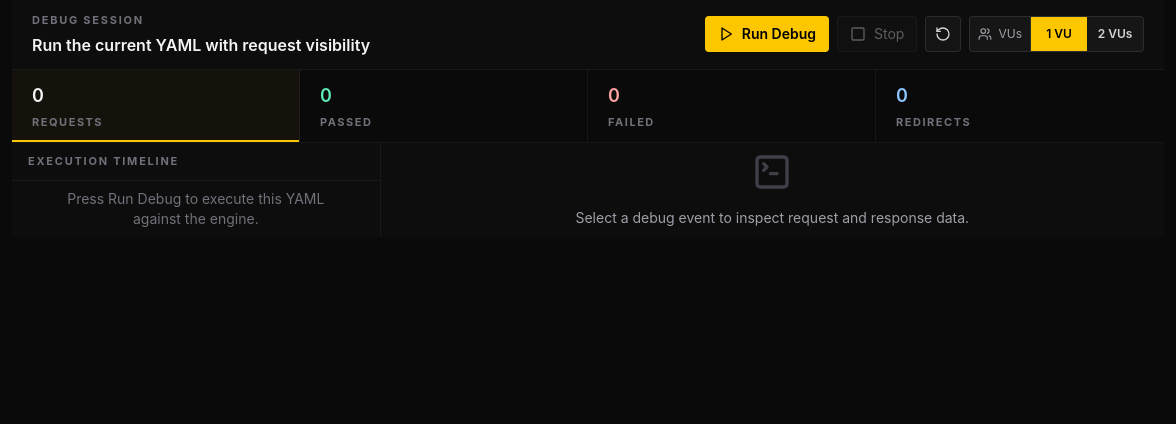
Test: YAMLDebugSession tree selection sync › labels the redirect chain in logs so a 200 landing does not read as a 302
Click the button "Run Debug" at (767, 34), box left=705, top=16, right=829, bottom=52
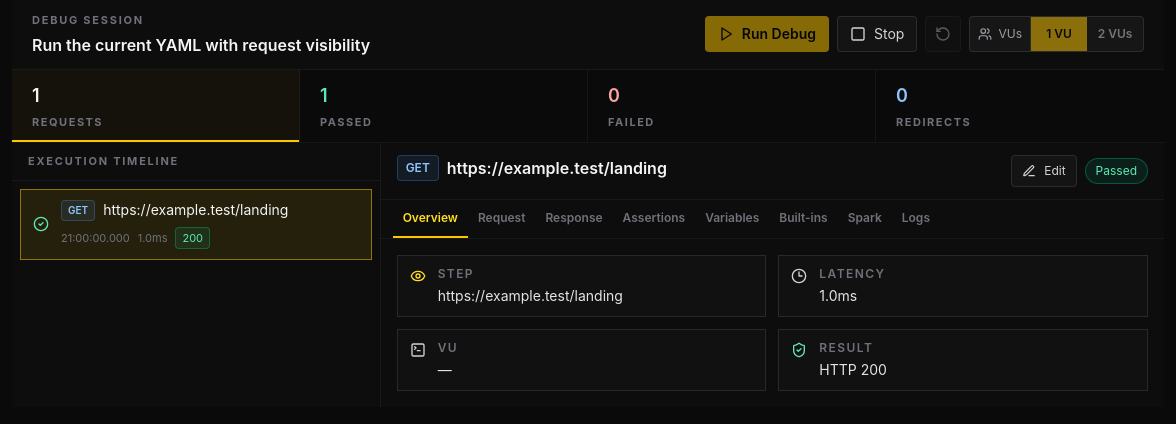
Click the button "Logs" at (916, 219), box left=892, top=200, right=940, bottom=238
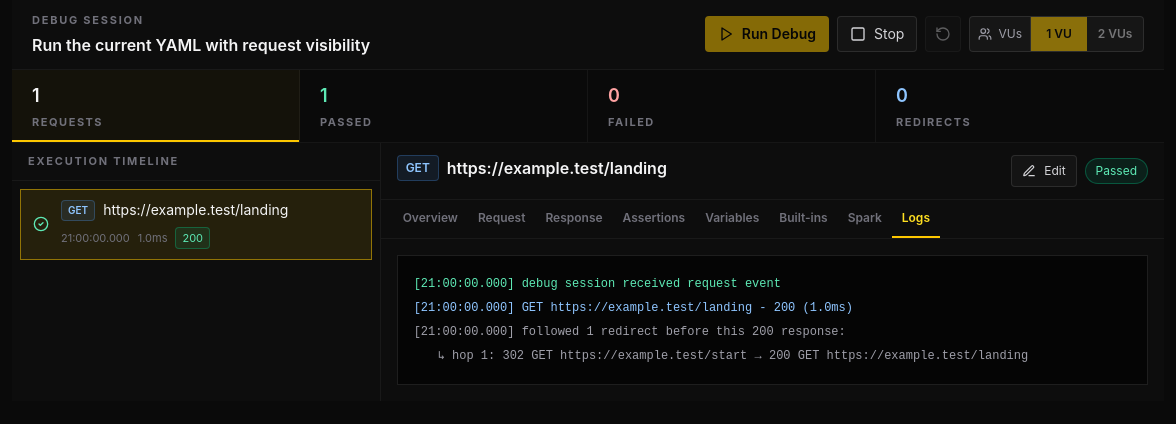
Check: the text "[21:00:00.000] followed 1 redirect before this 200 response:" is shown, box left=414, top=325, right=846, bottom=339
Check: the text "↳ hop 1: 302 GET https://example.test/start → 200 GET https://example.test/landing" is shown, box left=438, top=349, right=1028, bottom=363
